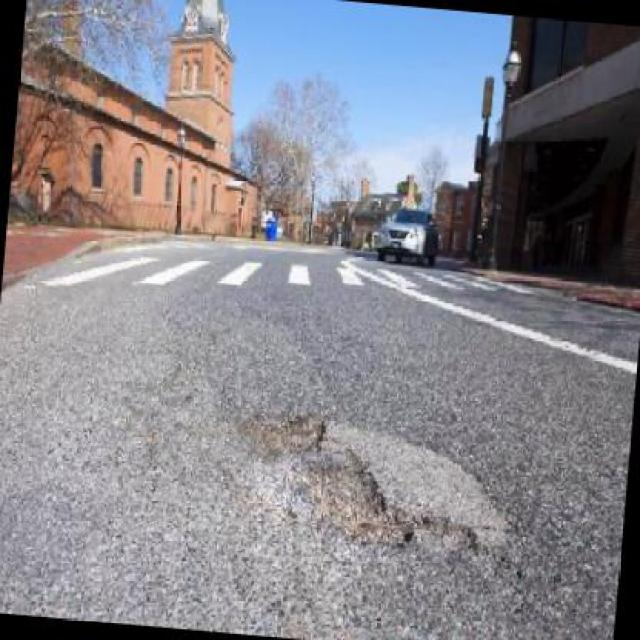pothole1: (306, 450, 425, 558), (234, 402, 331, 464)
